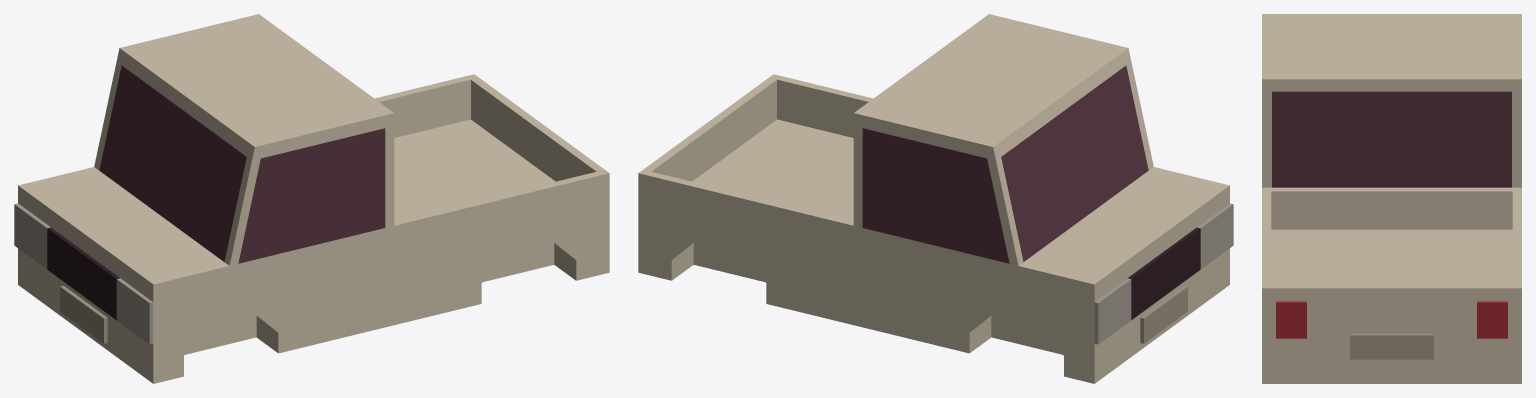
The model's file is Pickup_White.fbx.
3 renders of one model, left to right at view 1: azimuth 30°, elevation 25°; view 2: azimuth 150°, elevation 25°; view 3: azimuth 270°, elevation 25°, orthographic. The views are drawn at different scales.
Parts seen in each view (by area): view 1: Pickup_White, Pickup_Lights; view 2: Pickup_White, Pickup_Lights; view 3: Pickup_White, Pickup_Lights.
Boxes of the visible parts, box(x1,y1,x2,y2) form: Pickup_White: box(18, 14, 609, 383); Pickup_Lights: box(14, 203, 153, 344); Pickup_White: box(638, 14, 1229, 383); Pickup_Lights: box(1094, 203, 1233, 344); Pickup_White: box(1262, 14, 1521, 383); Pickup_Lights: box(1276, 301, 1507, 338).
Size of the model in its own units: 3.66 by 1.6 by 1.85.
